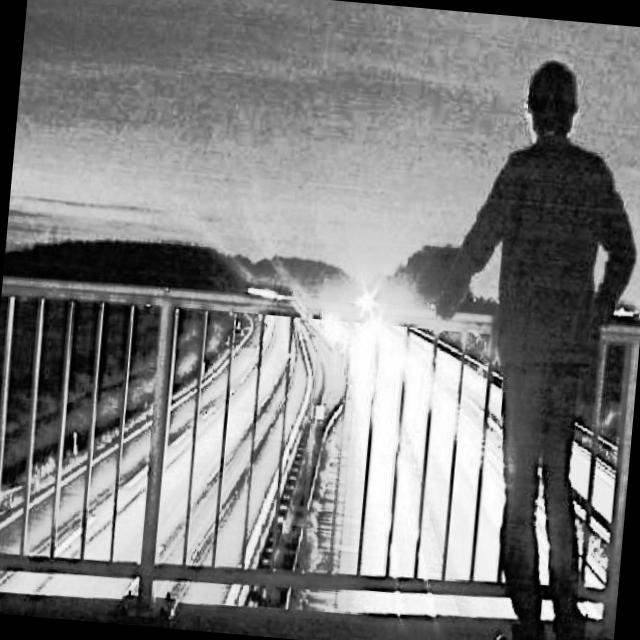Person: (406, 42, 640, 640)
